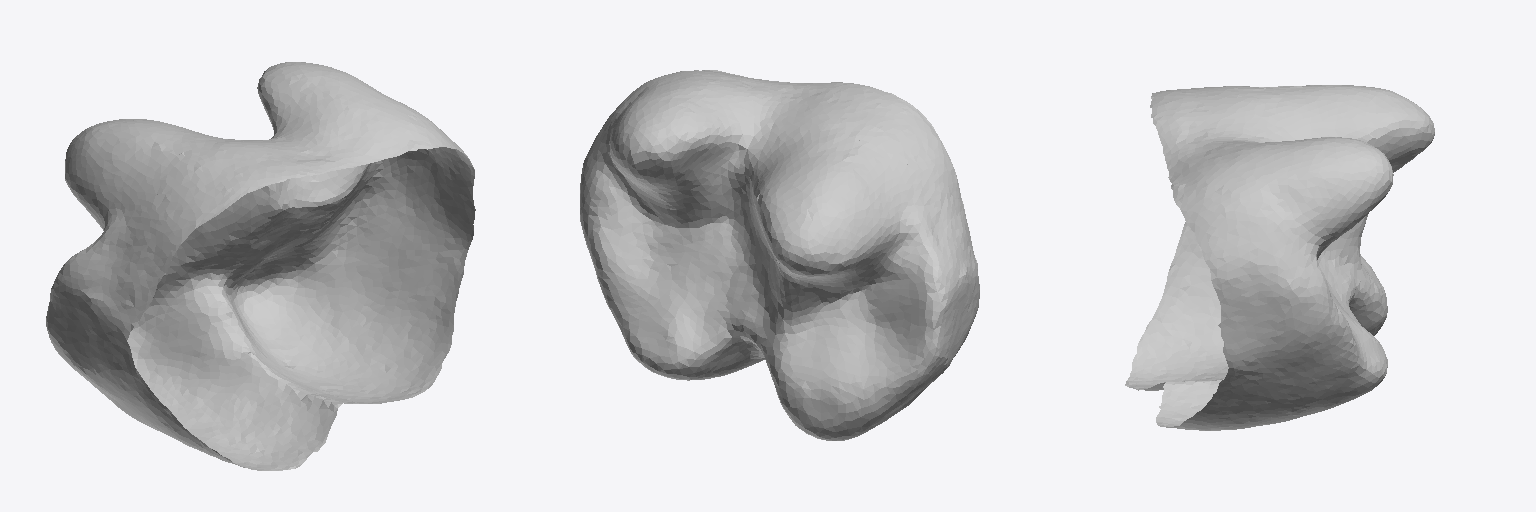
File: MN-Rio-7724_M1223_aligned.obj
3 views of the same model, side by side, from view 1: azimuth 30°, elevation 25°; view 2: azimuth 150°, elevation 25°; view 3: azimuth 270°, elevation 25° (orthographic).
Parts seen in each view (by area): view 1: curobj_export; view 2: curobj_export; view 3: curobj_export.
Boxes of the visible parts, box(x1,y1,x2,y2) form: curobj_export: box(46, 62, 475, 470); curobj_export: box(580, 70, 979, 440); curobj_export: box(1125, 85, 1434, 430).
Size of the model in its own units: 0.0348 by 0.0262 by 0.0246.